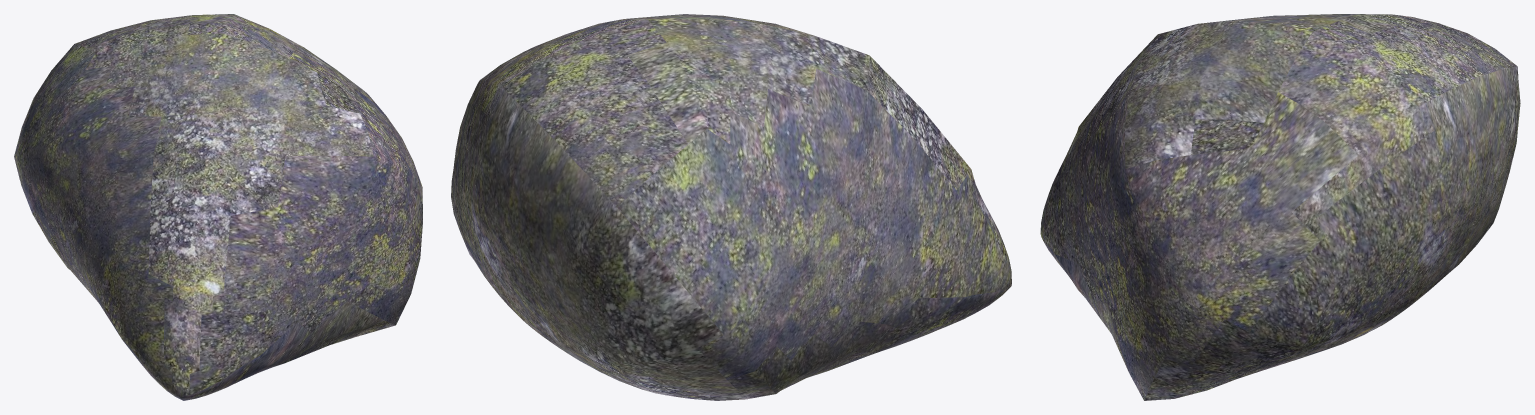
Rendered from Piedra 3.glb.
The picture shows the model from 3 angles, left to right: view 1: azimuth 30°, elevation 25°; view 2: azimuth 150°, elevation 25°; view 3: azimuth 270°, elevation 25°; orthographic projection. The views are drawn at different scales.
Parts seen in each view (by area): view 1: Piedra 3; view 2: Piedra 3; view 3: Piedra 3.
Part boxes in pixels (<box>): Piedra 3: <box>14,14,422,400</box>; Piedra 3: <box>451,14,1011,400</box>; Piedra 3: <box>1040,14,1520,400</box>.
Bounding box in the file's own units: 0.9463 × 0.7696 × 1.03.
1 material, 1 textured.
